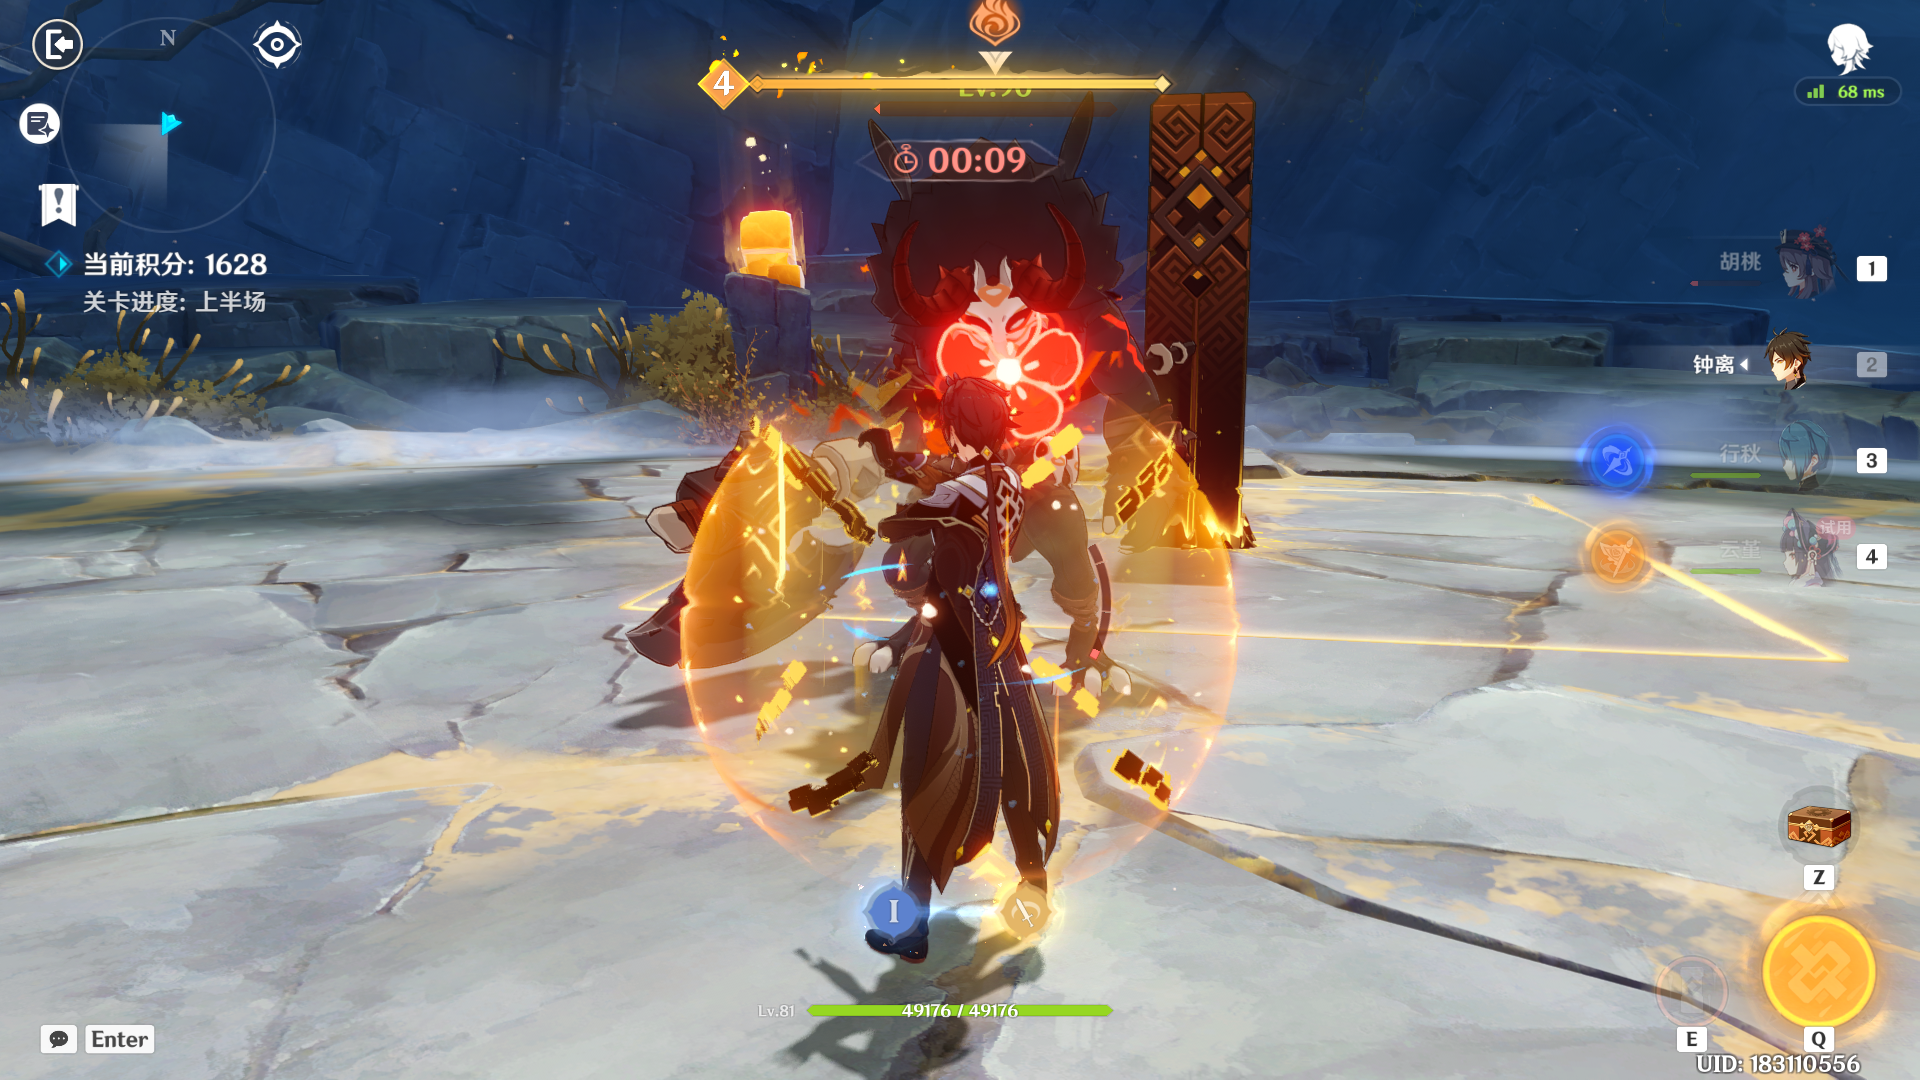bighili: (669, 138, 1204, 749)
character: (815, 352, 1125, 992)
